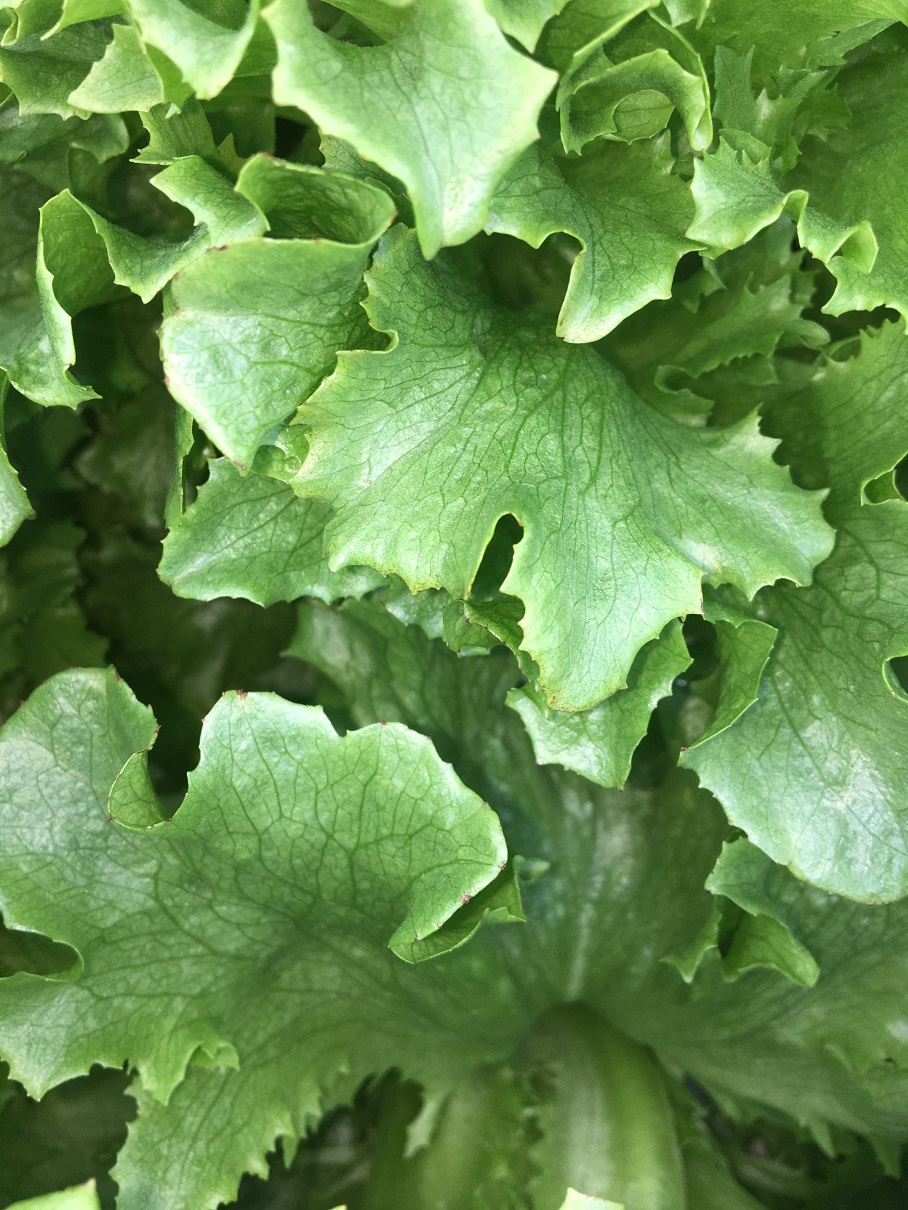tipburn: (523, 647, 634, 718), (361, 551, 481, 604), (247, 134, 304, 182), (668, 729, 706, 774), (223, 672, 265, 712), (98, 652, 138, 694), (371, 195, 411, 235), (300, 221, 340, 260), (198, 229, 239, 267), (857, 883, 898, 921), (401, 918, 449, 949), (138, 707, 176, 745), (94, 799, 132, 837), (546, 309, 583, 348), (690, 876, 734, 908), (447, 881, 485, 918), (601, 768, 638, 805), (159, 255, 196, 291), (219, 452, 258, 486), (369, 706, 405, 742), (449, 598, 484, 635), (153, 801, 188, 838), (487, 841, 520, 878), (148, 367, 183, 400), (58, 347, 90, 382), (104, 761, 134, 791)
